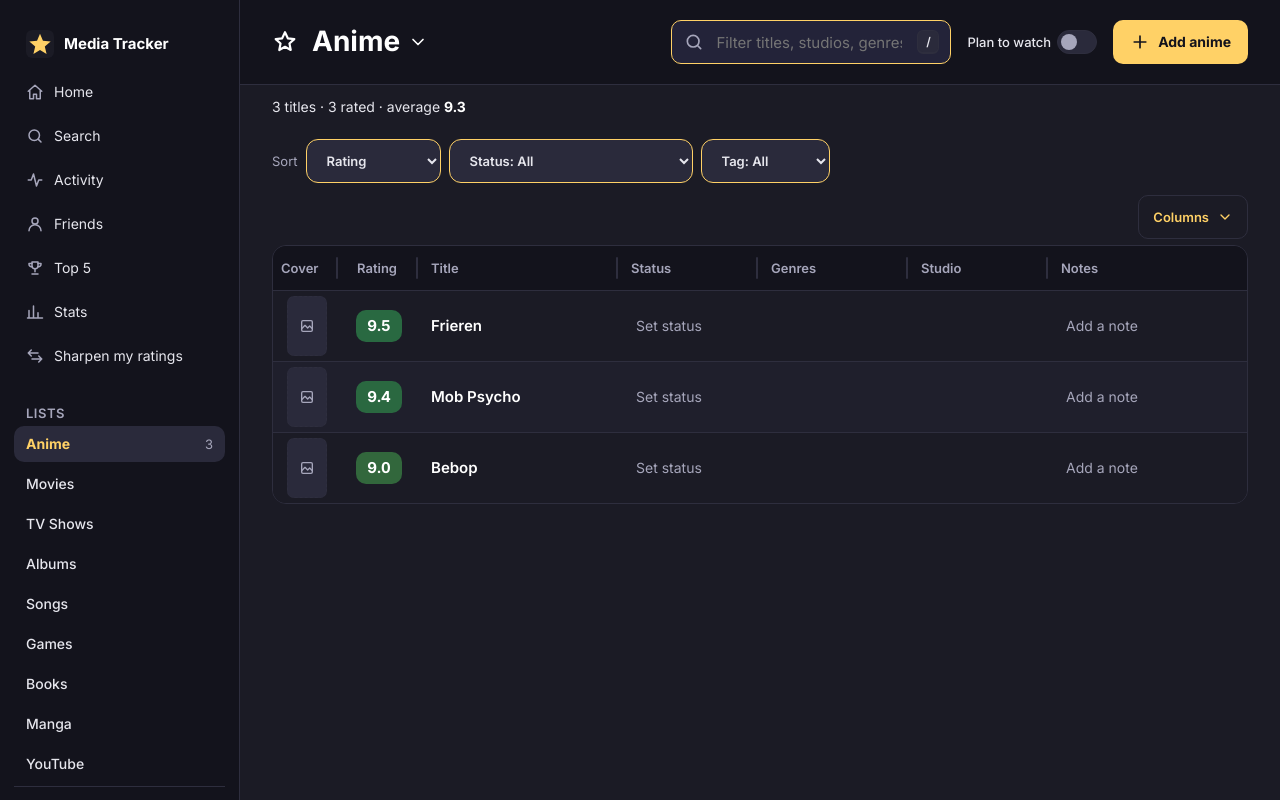
it: list filter: Tag (PC chip) › a Tag select filters the table
Expected: the table is shown, [273,246,1248,503]
Select "With Ren (1)" in the dropdown named "Tag" at point(765, 161), box [700,139,830,183]
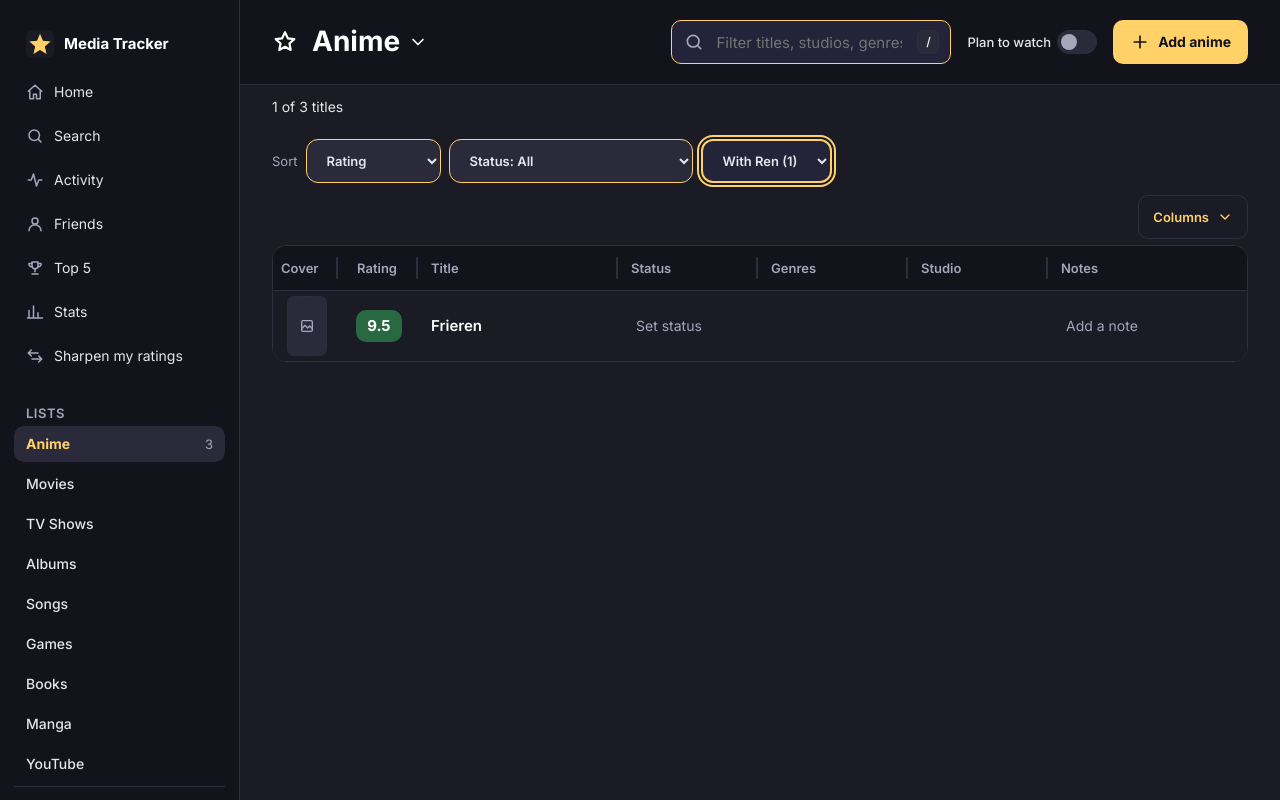
Expected: the link "Frieren" is shown, [431,316,482,335]
Expected: the link "Mob Psycho" is gone
